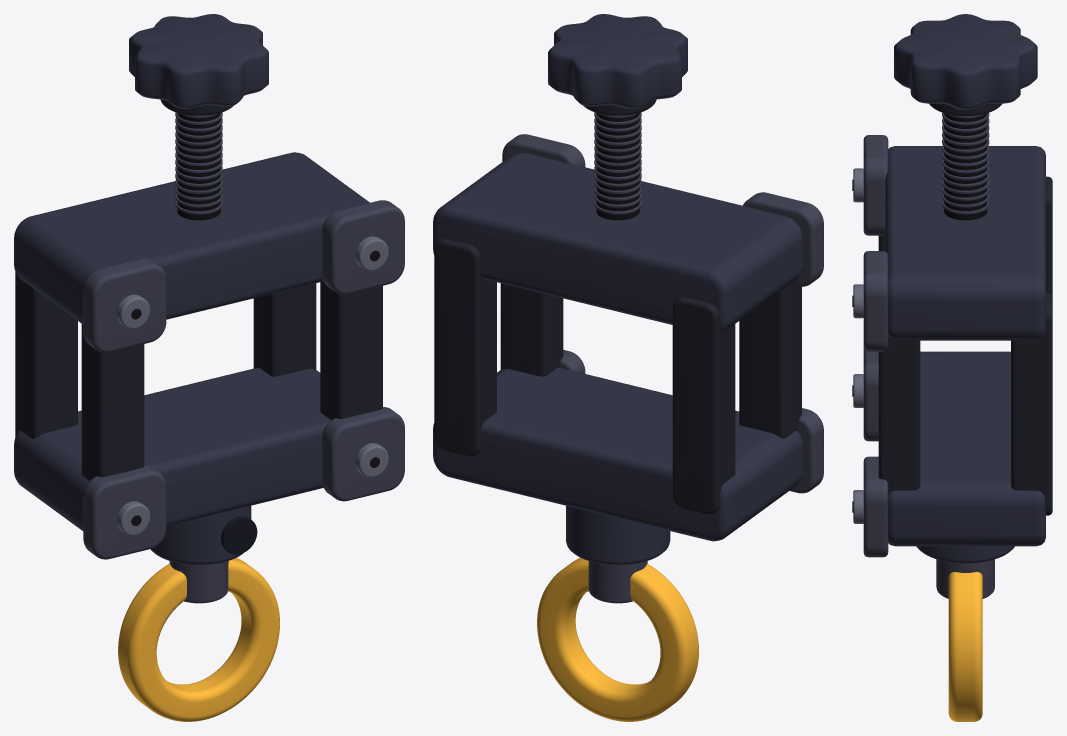
Rendered from SpotlightClamp.glb.
3 renders of one model, left to right at view 1: azimuth 30°, elevation 25°; view 2: azimuth 150°, elevation 25°; view 3: azimuth 270°, elevation 25°, orthographic.
Visible parts, largest first — view 1: Jaw0.55, Jaw0.31, BoltHousing (×4), GoldHangingRing, ScallopedAdjustmentKnob, Cheek-0.145-0.07, Cheek-0.1450.07, Cheek0.1450.07, Cheek0.145-0.07, SilverJawBolt (×4), LowerSwivel, AdjustmentScrew (+2 smaller); view 2: Jaw0.55, Jaw0.31, GoldHangingRing, Cheek-0.145-0.07, Cheek0.145-0.07, ScallopedAdjustmentKnob, Cheek-0.1450.07, BoltHousing (×3), Cheek0.1450.07, LowerSwivel, AdjustmentScrew, LowerStem; view 3: Jaw0.55, Jaw0.31, ScallopedAdjustmentKnob, BoltHousing (×4), Cheek0.145-0.07, Cheek0.1450.07, GoldHangingRing, AdjustmentScrew, SilverJawBolt (×4), LowerSwivel, LowerStem, Cheek-0.145-0.07 (+1 smaller).
Part boxes in pixels (box(x1,y1,x2,y2)): Jaw0.55: box(14, 152, 369, 324); Jaw0.31: box(14, 367, 330, 530); BoltHousing (×4): box(83, 200, 404, 559); GoldHangingRing: box(118, 557, 279, 721); ScallopedAdjustmentKnob: box(129, 14, 268, 108); Cheek-0.145-0.07: box(15, 272, 77, 438); Cheek-0.1450.07: box(81, 324, 144, 480); Cheek0.1450.07: box(320, 281, 382, 420); Cheek0.145-0.07: box(253, 283, 316, 376); SilverJawBolt (×4): box(116, 236, 388, 535); LowerSwivel: box(150, 505, 251, 564); AdjustmentScrew: box(177, 113, 220, 220); Jaw0.55: box(433, 152, 802, 331); Jaw0.31: box(433, 367, 802, 541); GoldHangingRing: box(537, 557, 698, 721); Cheek-0.145-0.07: box(672, 297, 735, 514); Cheek0.145-0.07: box(434, 238, 496, 456); ScallopedAdjustmentKnob: box(548, 14, 687, 108); Cheek-0.1450.07: box(739, 276, 801, 438); BoltHousing (×3): box(502, 134, 823, 493); Cheek0.1450.07: box(500, 283, 563, 376); LowerSwivel: box(566, 505, 670, 564); AdjustmentScrew: box(596, 113, 639, 220); LowerStem: box(588, 561, 647, 603); Jaw0.55: box(885, 146, 1045, 340); Jaw0.31: box(888, 351, 1045, 546); ScallopedAdjustmentKnob: box(894, 14, 1037, 109); BoltHousing (×4): box(863, 135, 888, 557); Cheek0.145-0.07: box(1011, 292, 1052, 515); Cheek0.1450.07: box(878, 336, 920, 493); GoldHangingRing: box(948, 572, 982, 721); AdjustmentScrew: box(944, 113, 987, 220); SilverJawBolt (×4): box(853, 168, 863, 523); LowerSwivel: box(916, 546, 1014, 563); LowerStem: box(936, 559, 994, 598); Cheek-0.145-0.07: box(1046, 176, 1052, 295).
Bounding box in the file's own units: 0.38 × 0.784 × 0.212.
Materials: 7 (7 with a texture image).
